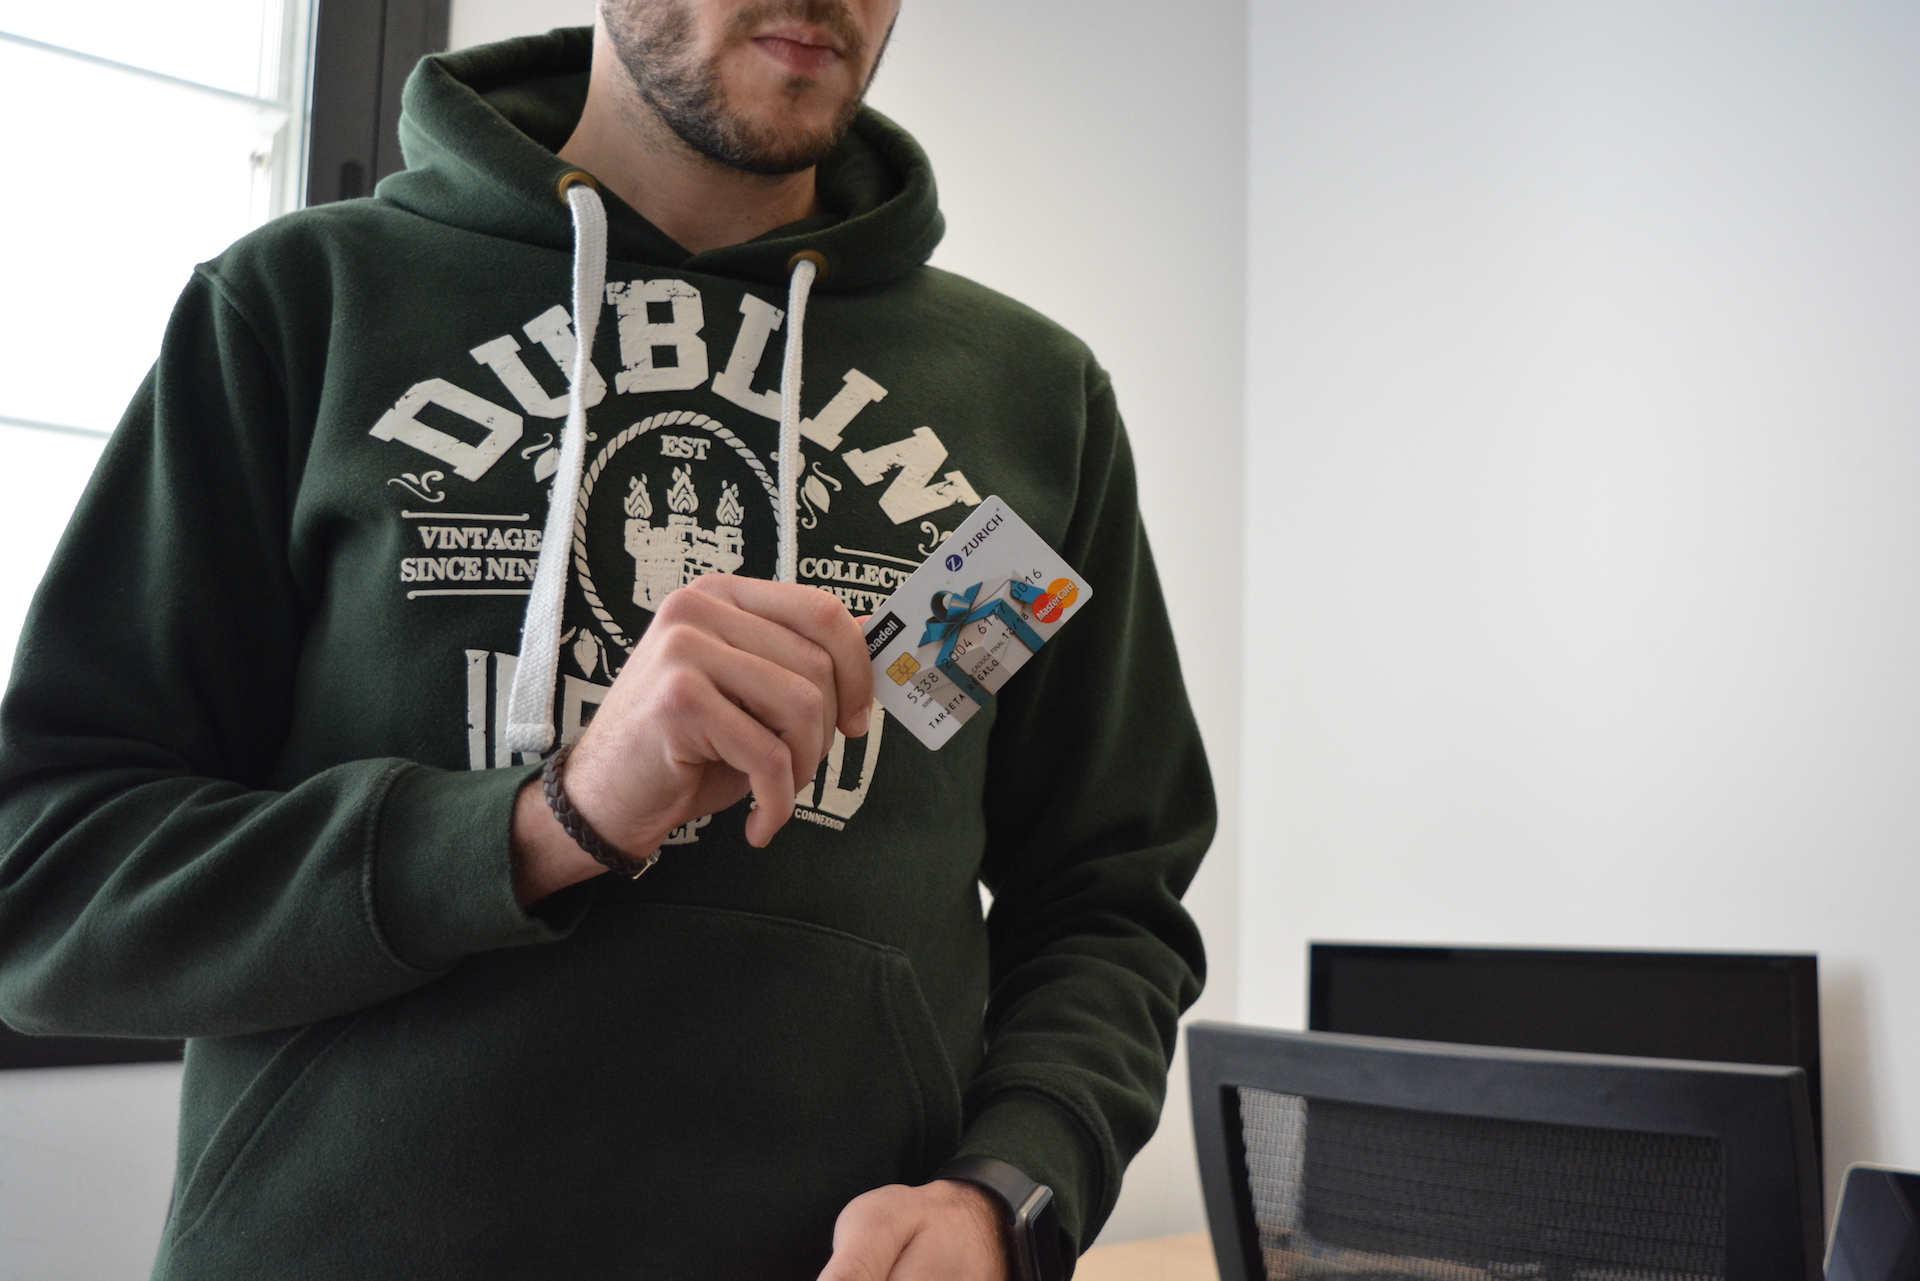tarjeta: (856, 488, 1098, 753)
